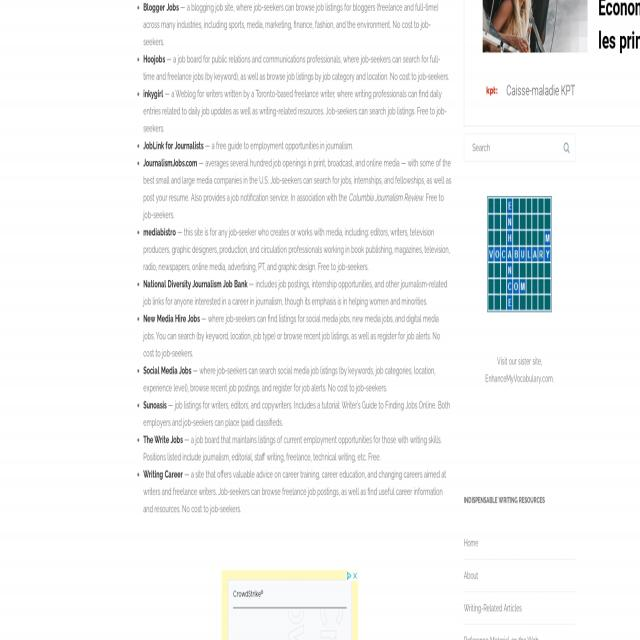button: (487, 197, 552, 312), (560, 135, 574, 161), (352, 570, 358, 580), (346, 571, 352, 580)
field: (464, 134, 575, 161)
